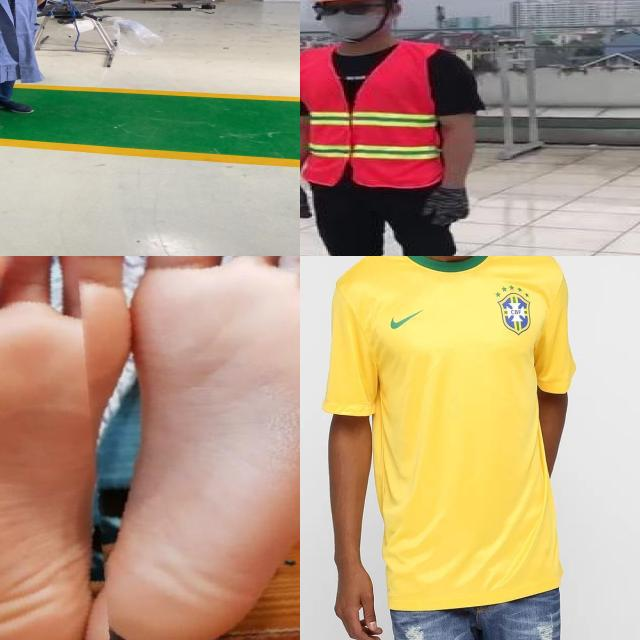Barefoots: (78, 256, 300, 640), (0, 256, 137, 640)
face_mask: (309, 0, 382, 38)
glasses: (309, 0, 380, 18)
hand_glove: (420, 188, 472, 228), (300, 186, 317, 218)
person: (300, 0, 483, 256), (0, 0, 67, 141)
shoes: (0, 97, 35, 115)
vest: (300, 40, 443, 187)
